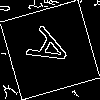A: (25, 25, 82, 77)
